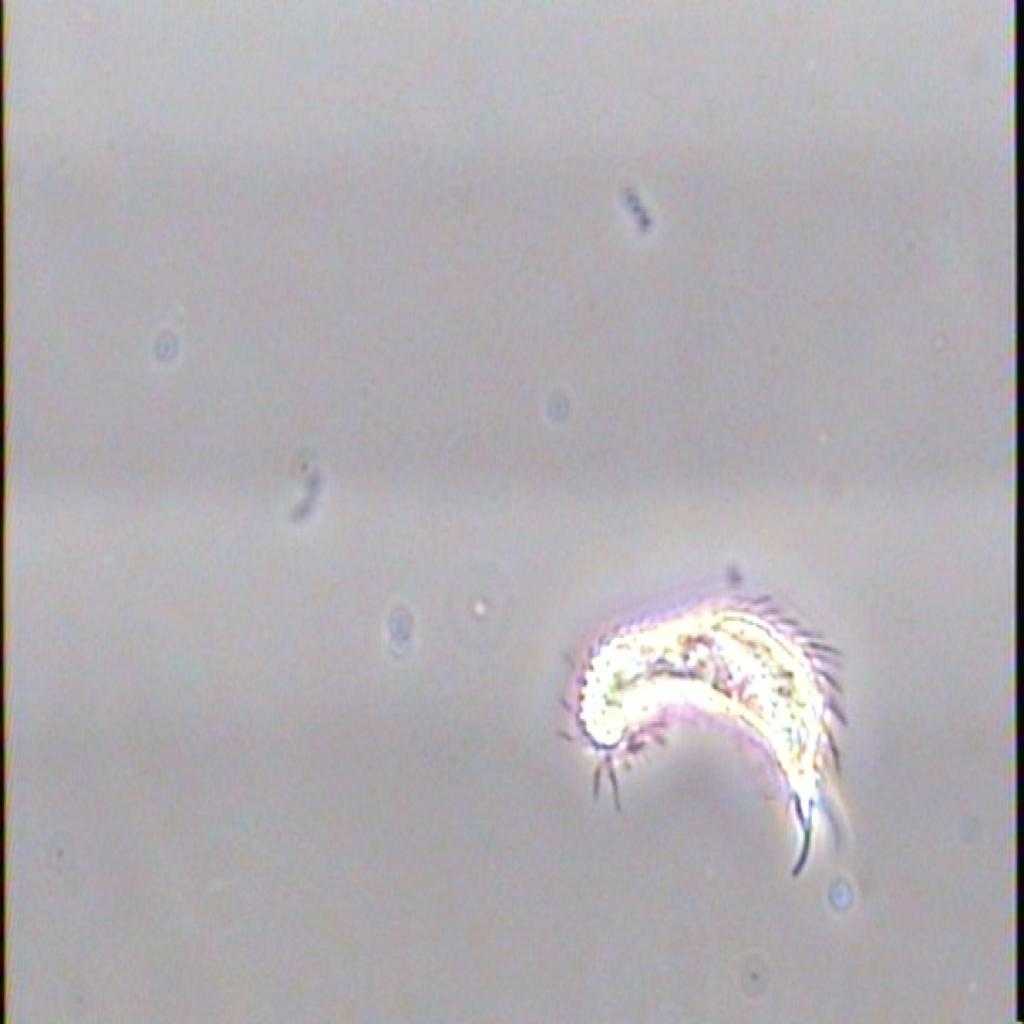Chaetonotus: (534, 544, 860, 894)
